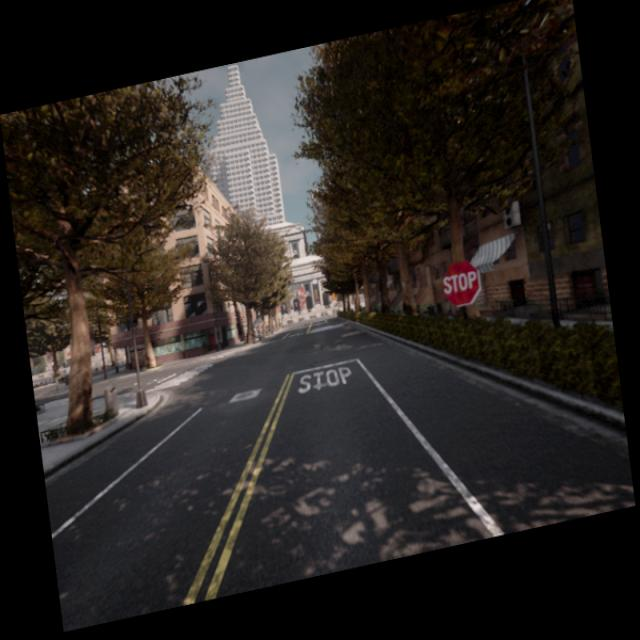stop sign: (440, 257, 482, 308)
